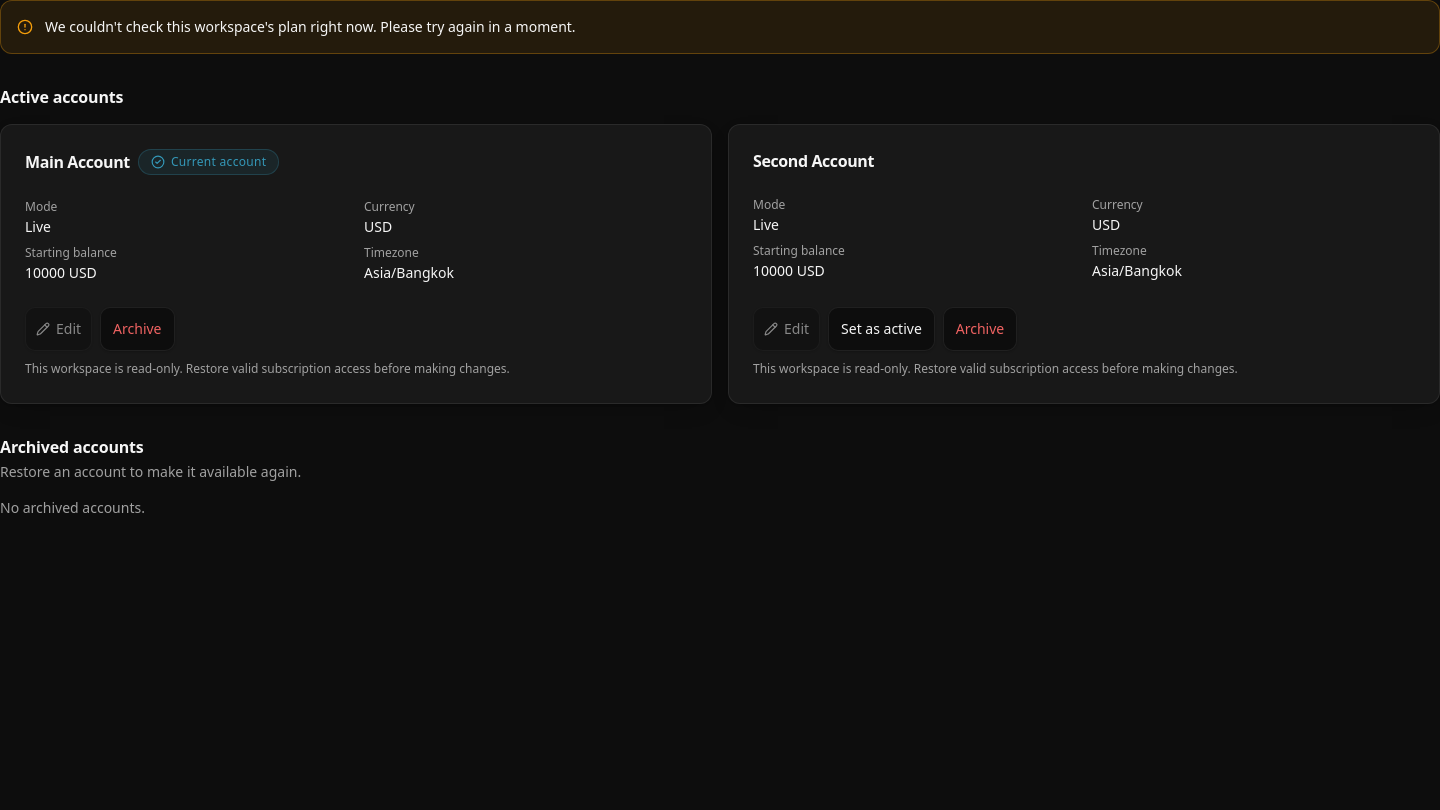
Test: AccountsManager — archive confirmation › shows the account name in the confirmation dialog
Step 1. Click the button "Archive" below "Main Account" → (137, 329), box [100,307,175,351]
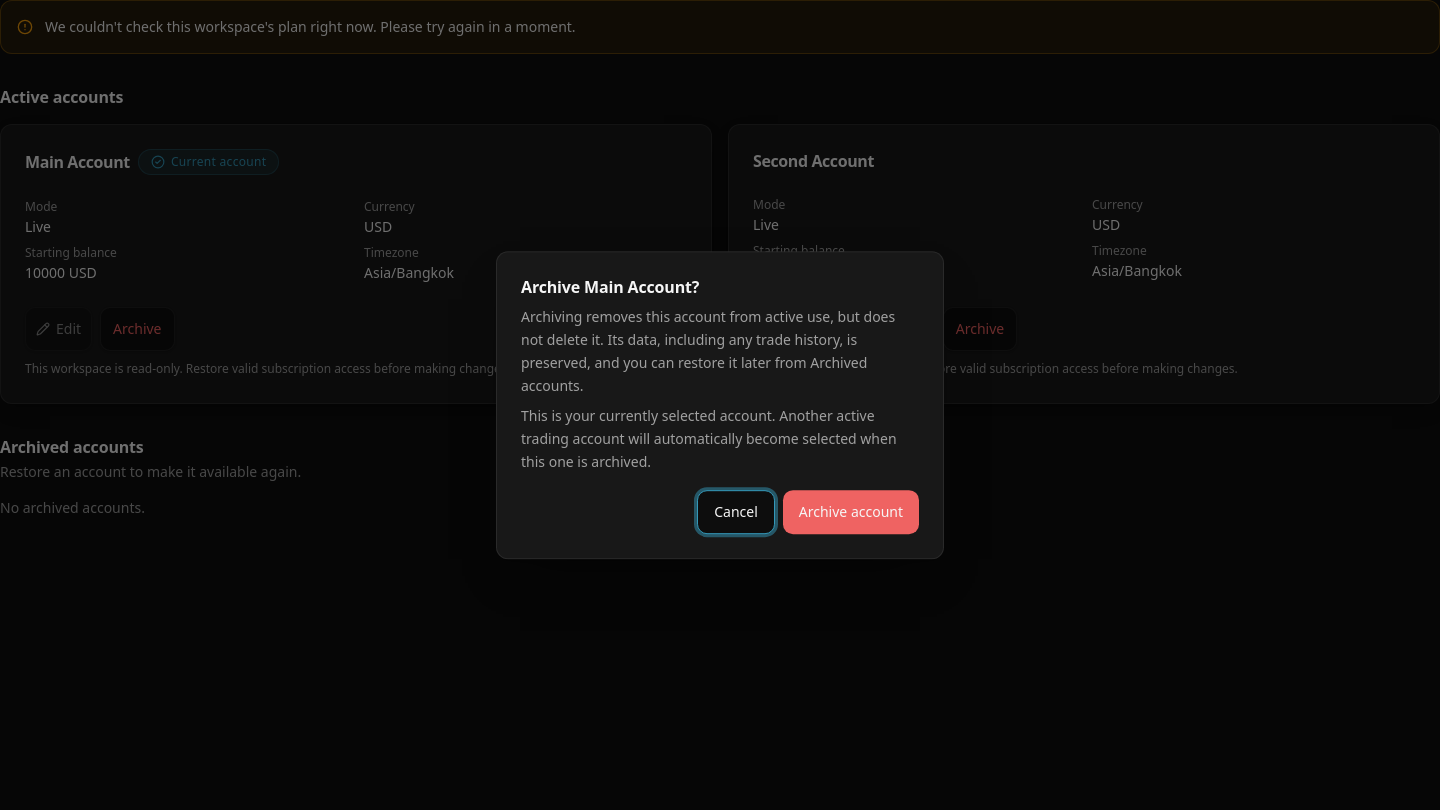
Expected: the dialog shows "Archive Main Account?", [521,276,699,298]
